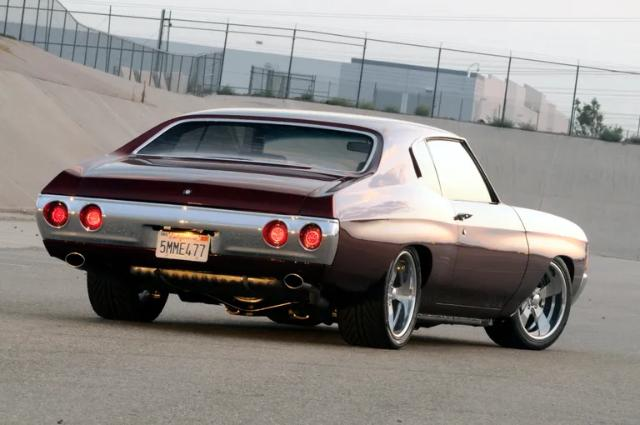chevelle-1972: (36, 108, 588, 349)
